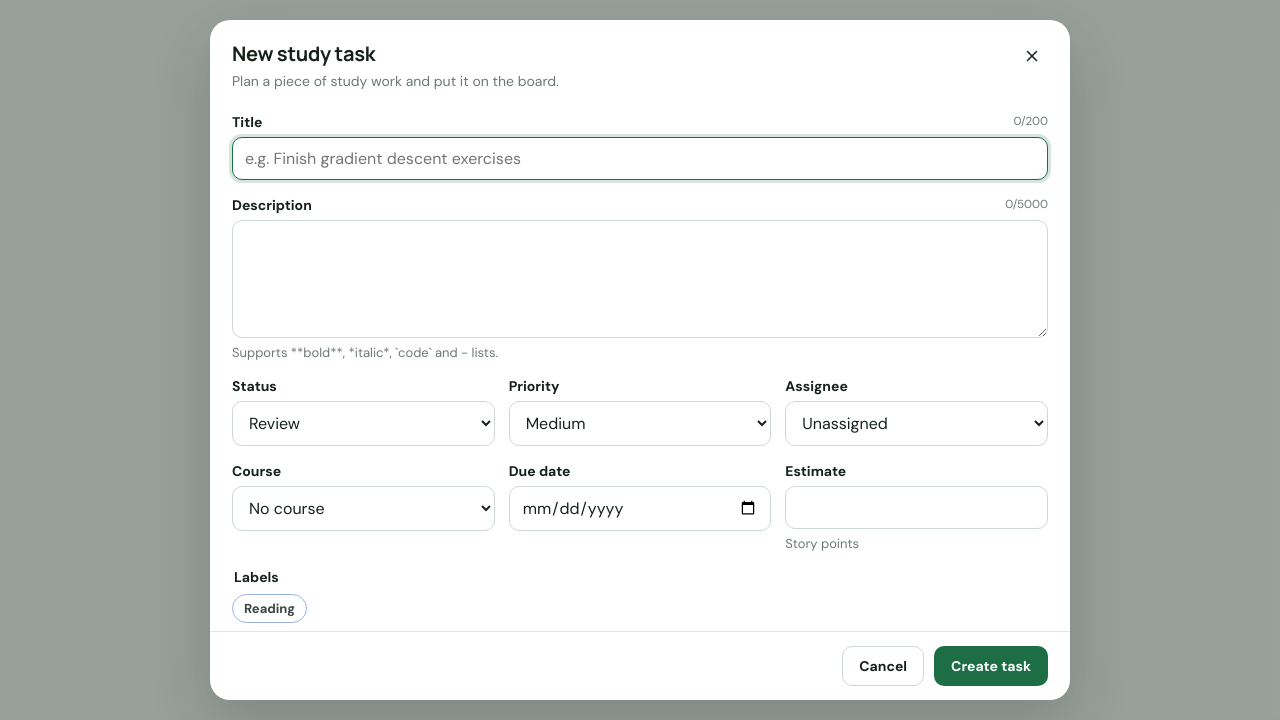
Test: NewTaskModal › shows the server error and stays open
The image size is (1280, 720).
In the field labelled "Title 0/200": (640, 158) [232,137,1048,180], type "Revise joins"
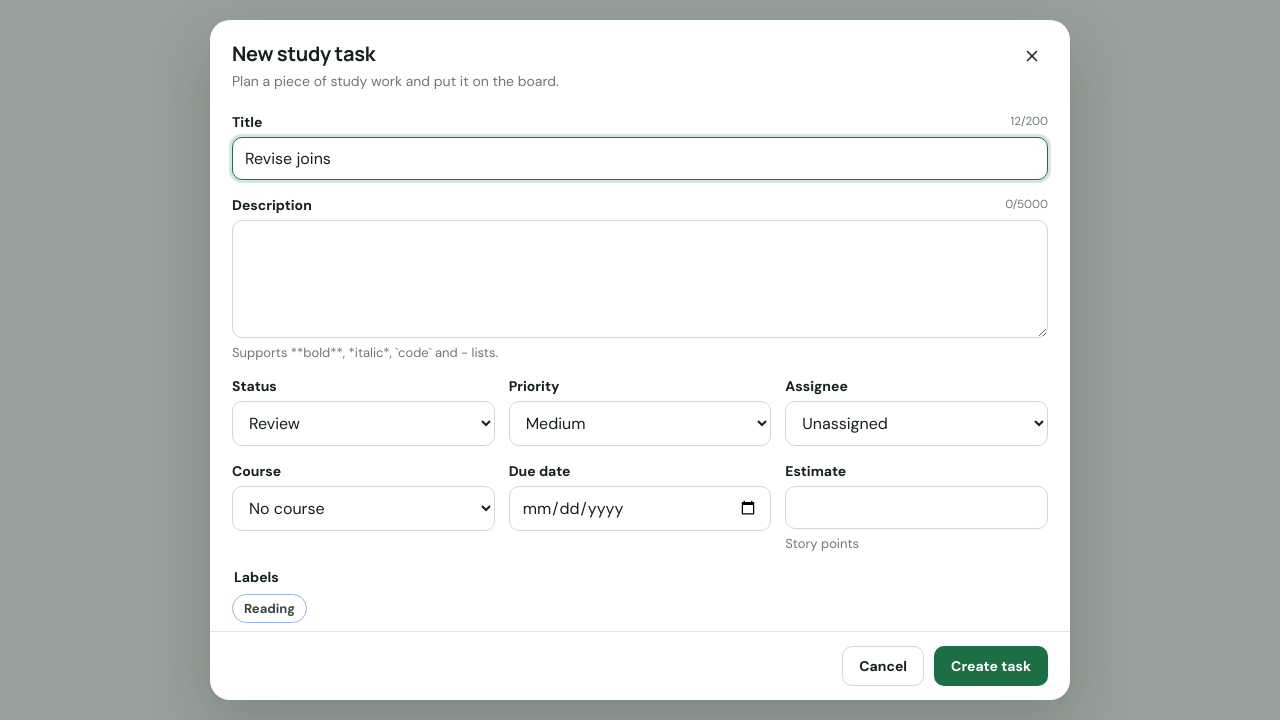
Click the button "Create task": (991, 666) [934,646,1048,686]
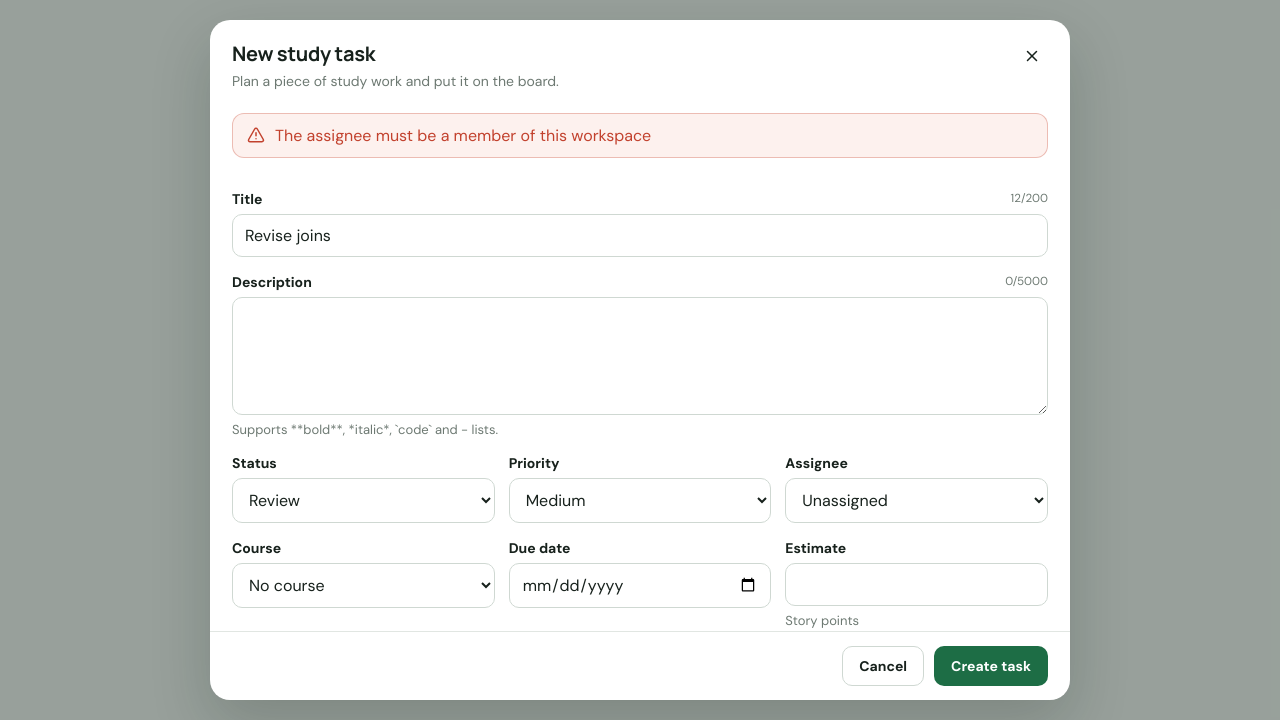
Expected: the message shows "must be a member", [275,125,651,146]
